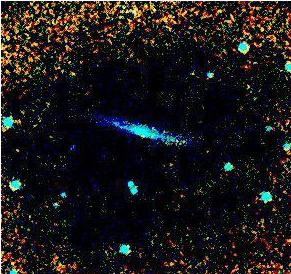star: (137, 122, 167, 152)
